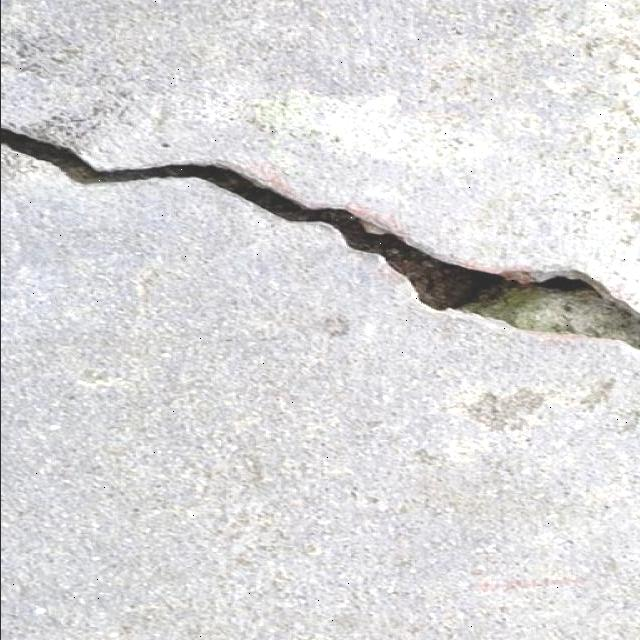crack: (1, 267, 634, 635), (0, 118, 639, 361), (5, 135, 293, 203), (151, 163, 368, 241), (5, 126, 122, 183)
